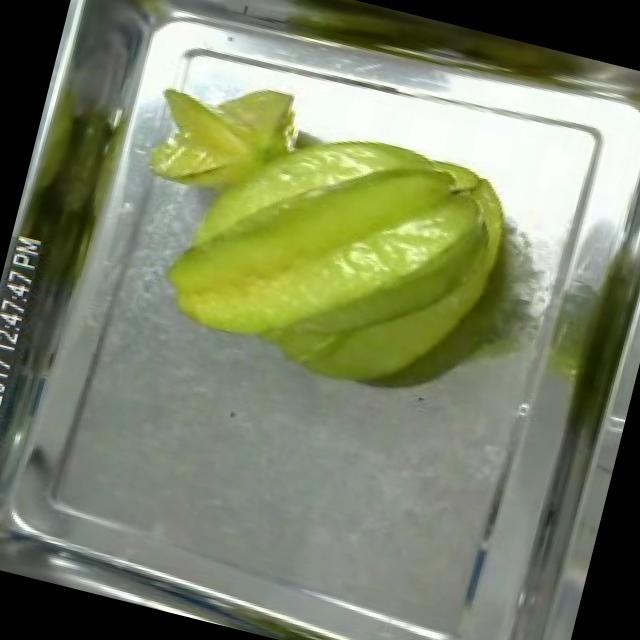fruit: (140, 83, 532, 419)
